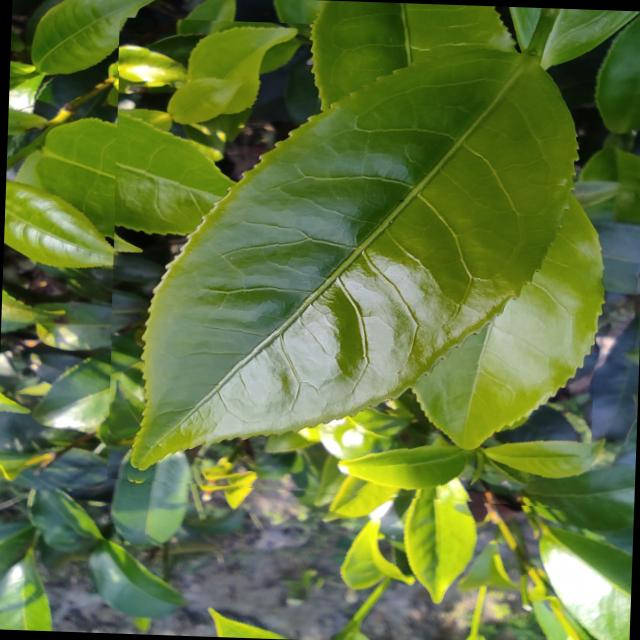Category B(2-4 days): (101, 17, 604, 510)
